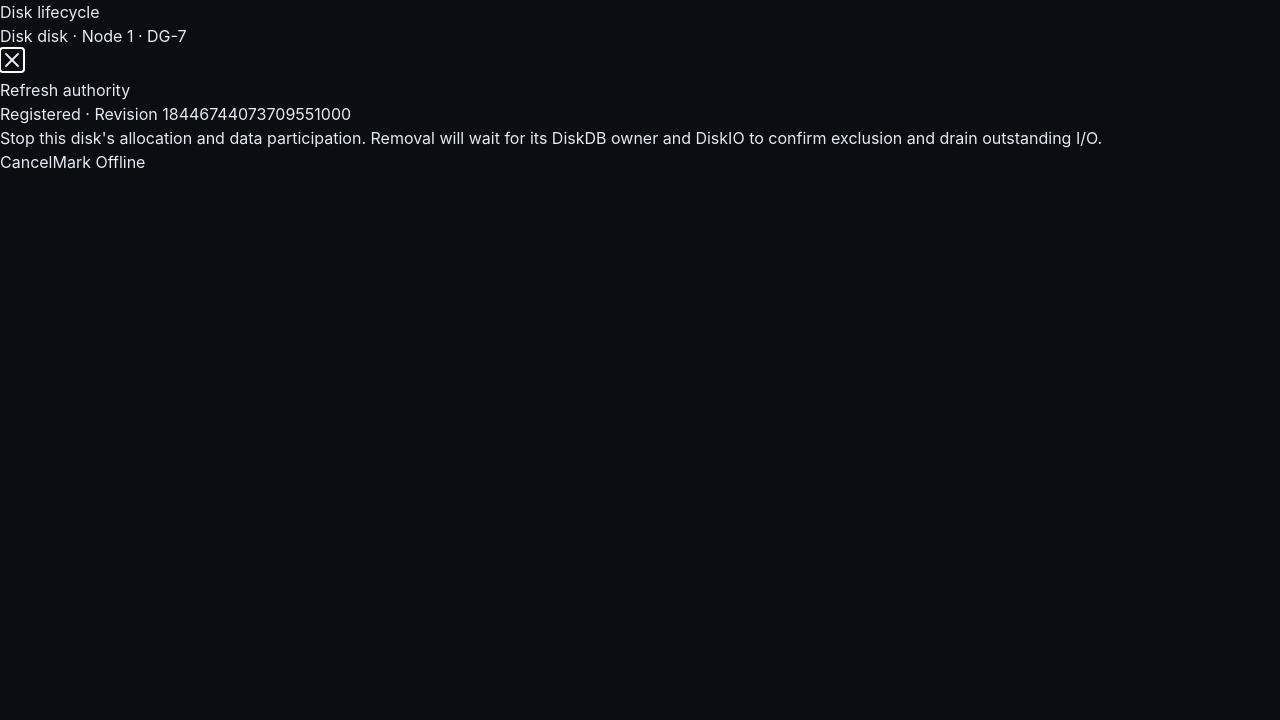
Test: reconciles an unknown Offline response before enabling another mutation
Click the button "Mark Offline": (99, 162) left=52, top=150, right=146, bottom=174
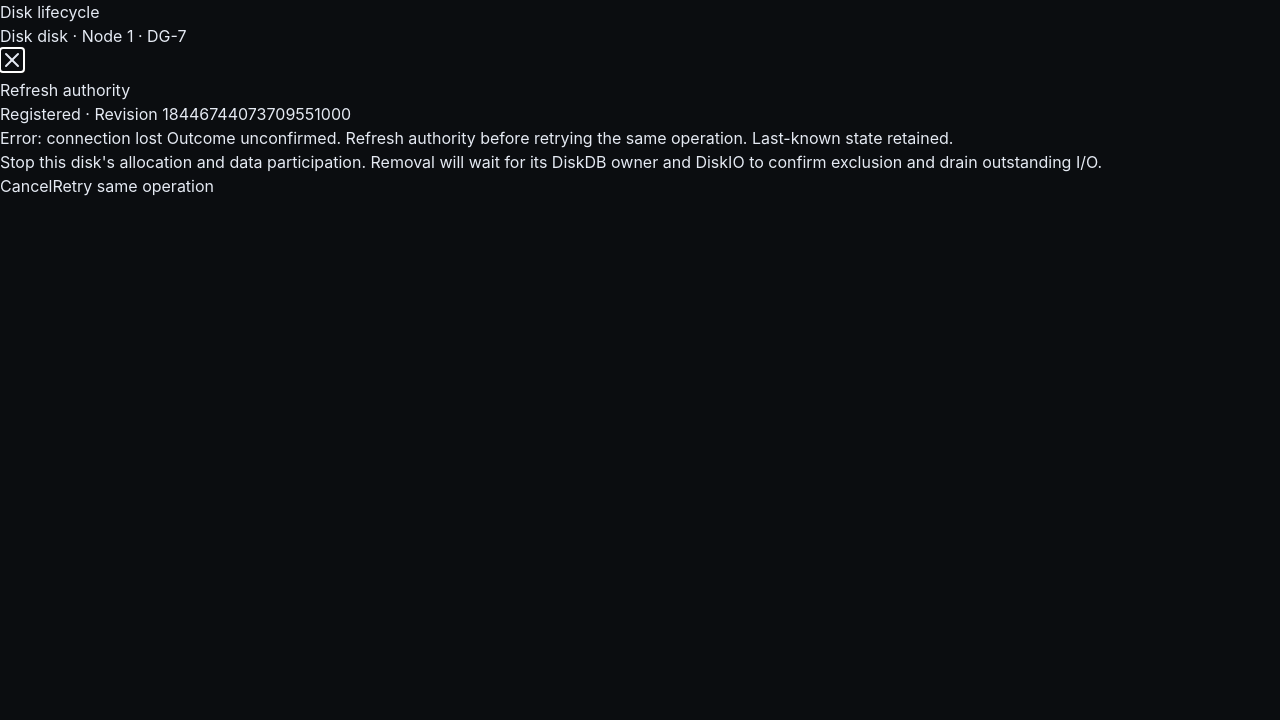
Now the 2nd message is shown, box left=0, top=128, right=953, bottom=148
Now the button "Retry same operation" is disabled, box left=52, top=174, right=214, bottom=198
Click the button "Refresh authority": (65, 90) left=0, top=78, right=130, bottom=102
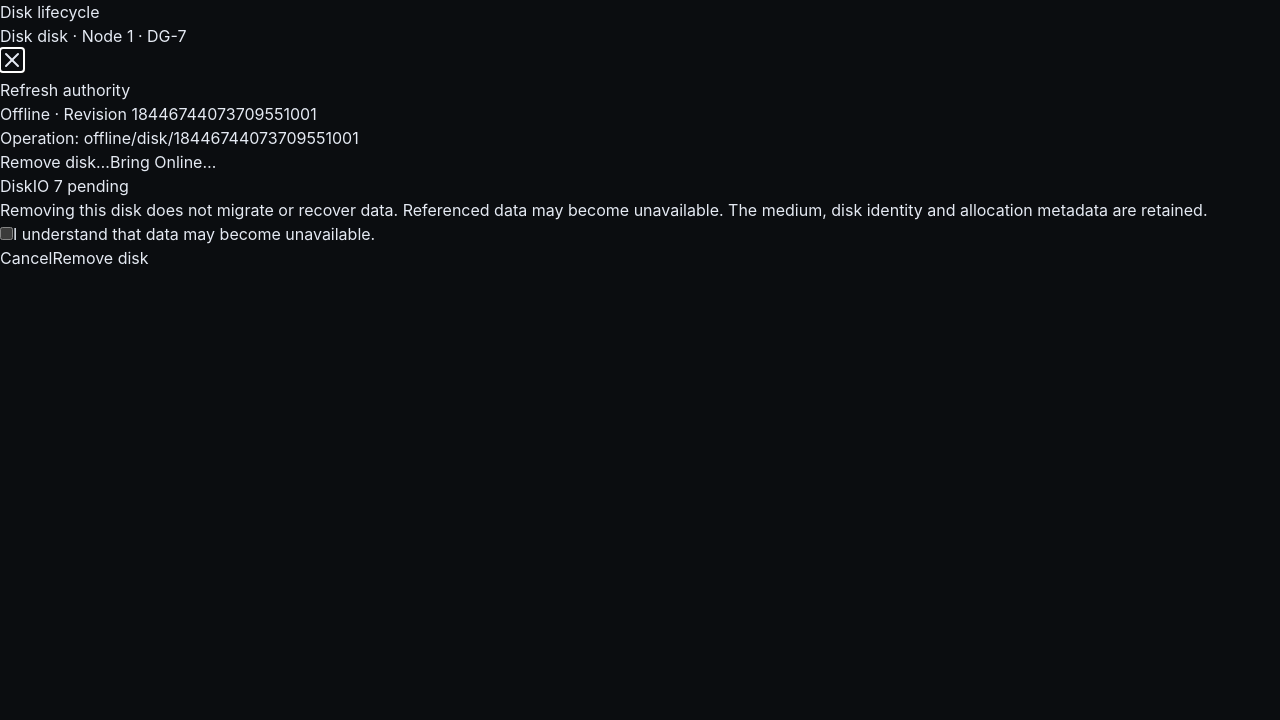
Now the button "Remove disk" is disabled, box left=52, top=246, right=149, bottom=270
Now the list item "DiskIO 7 pending" is shown, box left=0, top=176, right=129, bottom=196
